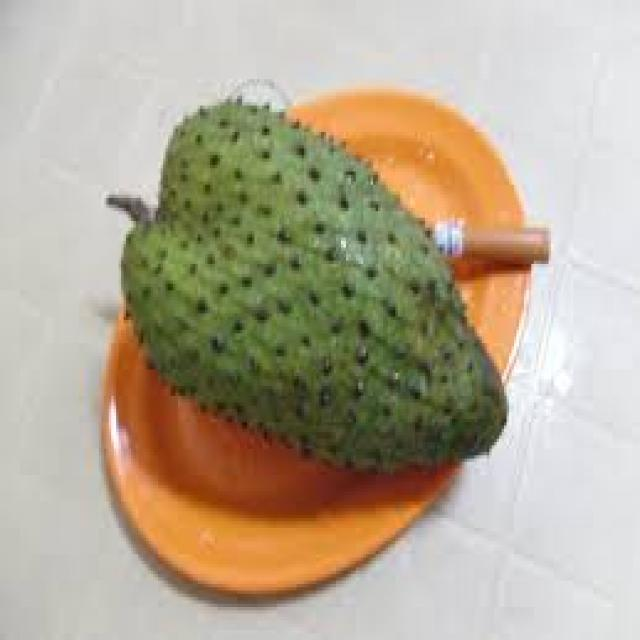organic waste: (116, 96, 507, 465)
